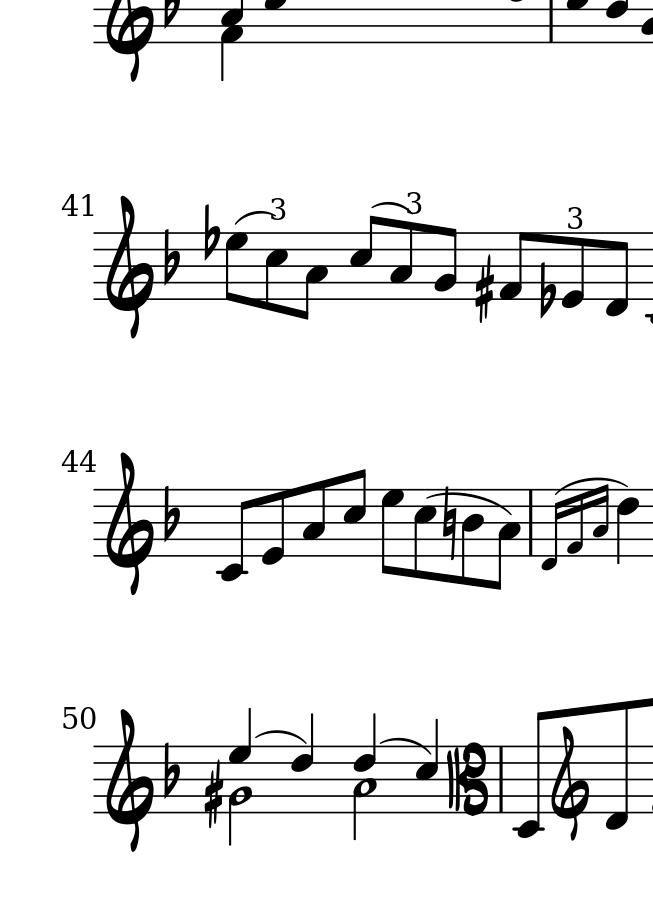0: (78, 703, 97, 732)
1: (80, 192, 94, 218)
16_-1: (538, 488, 564, 573)
16_1: (563, 488, 586, 557)
16_3: (591, 481, 611, 560)
3: (270, 194, 287, 224), (566, 204, 584, 231), (406, 189, 423, 216)
4: (60, 447, 78, 476), (79, 447, 97, 474), (61, 192, 78, 218)
4_5: (414, 715, 440, 815)
4_6: (290, 710, 317, 817), (615, 489, 641, 562)
5: (61, 701, 80, 731)
8_-1: (604, 699, 633, 831), (604, 229, 630, 319)
8_-2: (514, 707, 552, 840), (219, 488, 252, 587)
8_0: (559, 230, 587, 310), (260, 486, 288, 566)
8_1: (497, 230, 533, 305)
8_2: (430, 226, 459, 304)
8_3: (487, 488, 522, 592), (293, 231, 330, 321), (388, 218, 416, 302), (302, 479, 328, 558)
8_4: (460, 487, 486, 589)
8_5: (347, 214, 383, 301), (263, 231, 294, 312), (411, 488, 437, 584), (341, 468, 368, 560)
8_7: (379, 488, 405, 578), (223, 230, 249, 303)
Appoggiature_3: (542, 485, 611, 574)
Cclef: (445, 740, 491, 818)
Flat: (160, 481, 183, 544), (161, 740, 185, 799), (162, 224, 184, 288), (536, 260, 557, 320), (201, 200, 220, 260)
Gclef: (103, 451, 156, 595), (104, 193, 157, 335), (105, 707, 155, 856), (552, 723, 591, 842)
Natural: (439, 483, 460, 562)
Sharp: (473, 251, 498, 323), (201, 759, 223, 835)
Single_barline: (492, 747, 509, 813), (523, 488, 539, 556)
Slur: (428, 490, 517, 517), (557, 474, 629, 493), (380, 736, 431, 759), (254, 729, 307, 746), (234, 209, 276, 224), (372, 199, 408, 213)
